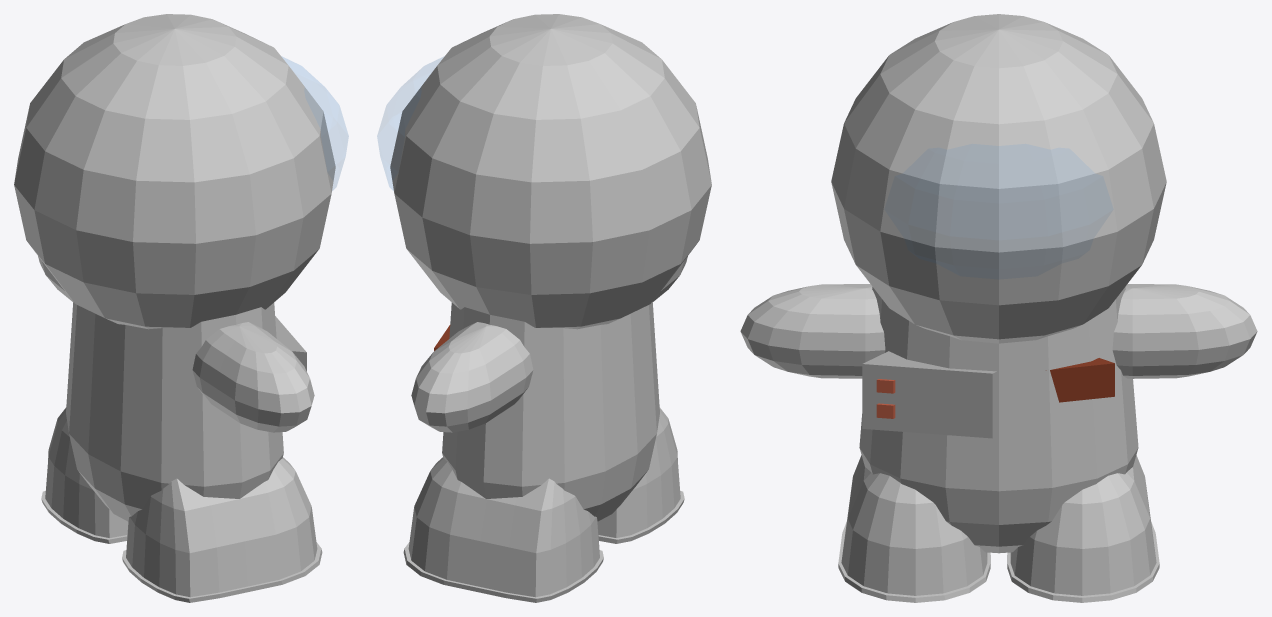
Rendered from mrastro3d-animation-wave.glb.
3 renders of one model, left to right at view 1: azimuth 30°, elevation 25°; view 2: azimuth 150°, elevation 25°; view 3: azimuth 270°, elevation 25°, orthographic. The views are drawn at different scales.
Parts seen in each view (by area): view 1: helmet, bottom, leg.r, arm.r, leg.l, glasshelmet, radio; view 2: helmet, bottom, leg.l, arm.l, leg.r, glasshelmet; view 3: helmet, bottom, leg.l, leg.r, arm.l, arm.r, radio, flag.
Part boxes in pixels (bbox=[...]): helmet: bbox=[14, 14, 335, 329]; bottom: bbox=[66, 302, 283, 521]; leg.r: bbox=[122, 457, 322, 602]; arm.r: bbox=[192, 322, 314, 432]; leg.l: bbox=[41, 407, 128, 543]; glasshelmet: bbox=[283, 57, 348, 190]; radio: bbox=[275, 316, 306, 371]; helmet: bbox=[390, 14, 711, 329]; bottom: bbox=[442, 302, 659, 521]; leg.l: bbox=[403, 457, 603, 602]; arm.l: bbox=[411, 322, 533, 432]; leg.r: bbox=[597, 407, 684, 543]; glasshelmet: bbox=[377, 57, 442, 190]; helmet: bbox=[831, 14, 1166, 343]; bottom: bbox=[859, 287, 1138, 553]; leg.l: bbox=[1007, 455, 1159, 602]; leg.r: bbox=[838, 455, 990, 602]; arm.l: bbox=[1112, 284, 1257, 378]; arm.r: bbox=[740, 284, 885, 378]; radio: bbox=[862, 351, 997, 438]; flag: bbox=[1046, 358, 1114, 402].
Size of the model in its own units: 0.9938 by 1.61 by 1.44.
